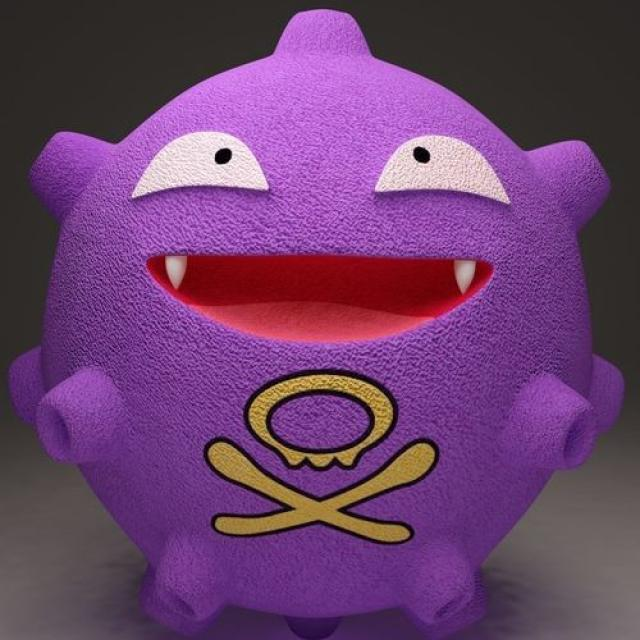Koffing: (13, 7, 624, 640)
